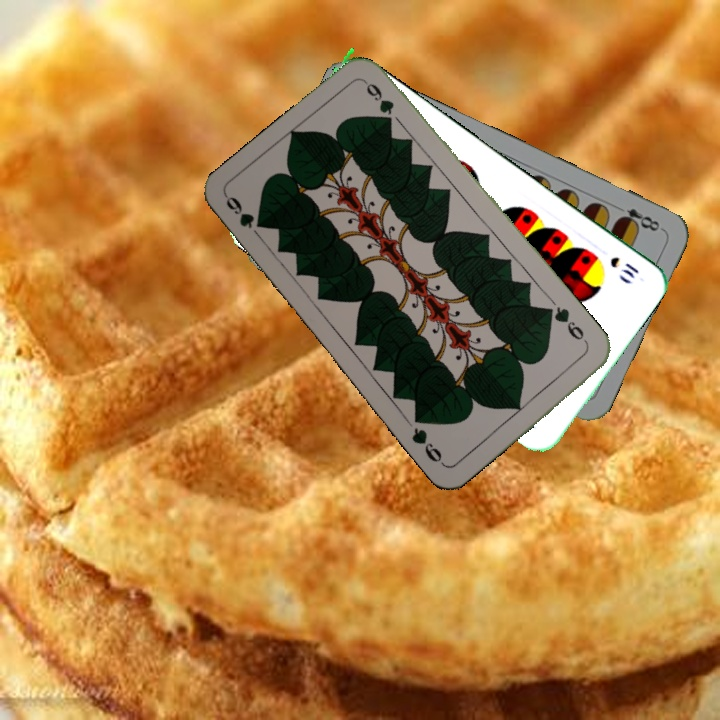E8: (611, 201, 665, 235)
G9: (545, 302, 592, 349), (222, 192, 266, 232)
S10: (606, 252, 642, 285)
